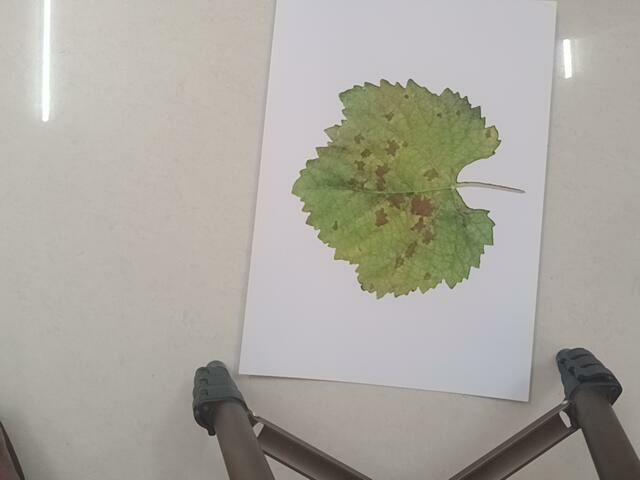Grape_Leaf_Vine_Disease: (292, 66, 522, 296)
